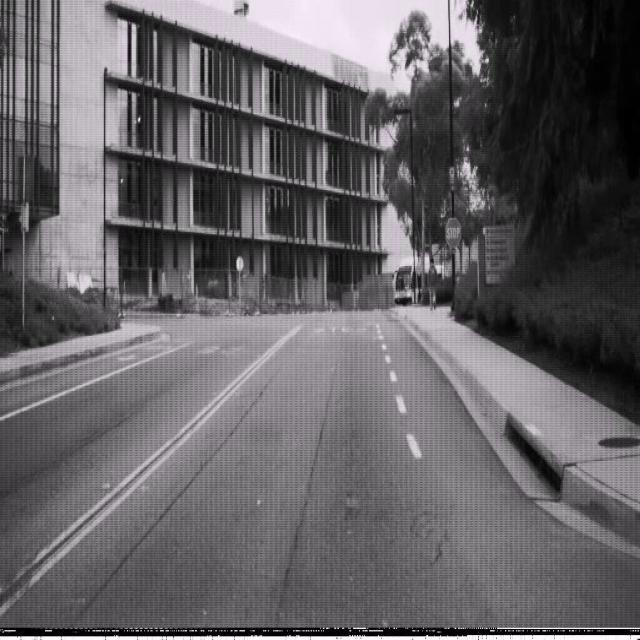stop: (444, 216, 462, 250)
